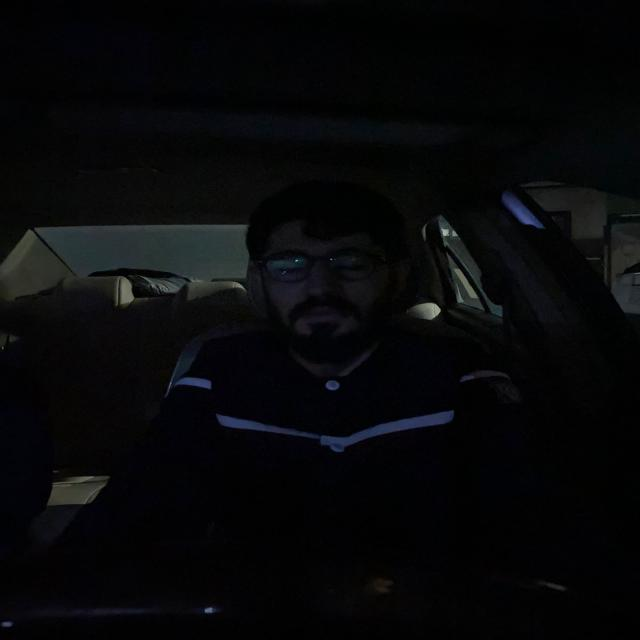drowsy: (244, 176, 410, 366)
